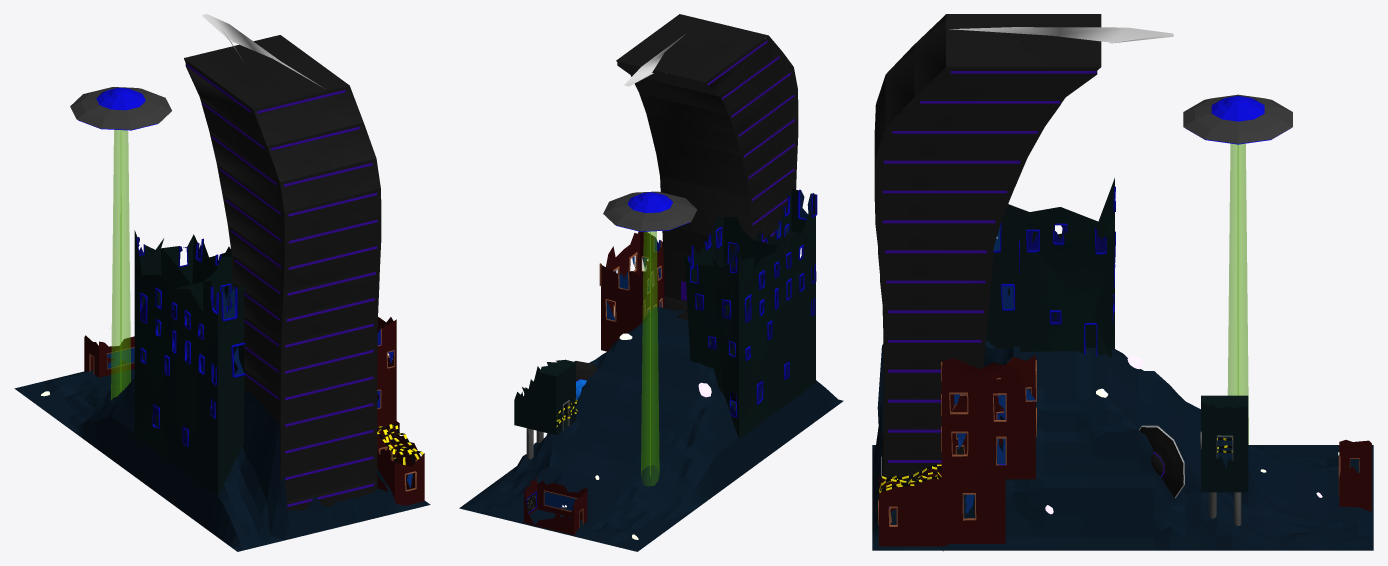
File: terreno_final3.glb
3 views of the same model, side by side, from view 1: azimuth 30°, elevation 25°; view 2: azimuth 150°, elevation 25°; view 3: azimuth 270°, elevation 25° (orthographic). The views are drawn at different scales.
Visible parts, largest first — view 1: terrain2, building2, Plane, building3, building1, barrier; view 2: terrain2, building2, Plane, building1, building3; view 3: terrain2, building3, building2, Plane, building1, Plane.002, barrier.
Part boxes in pixels (x1,y1,x2,y2): terrain2: (14, 14, 430, 551); building2: (134, 230, 245, 495); Plane: (70, 87, 171, 399); building3: (377, 317, 424, 505); building1: (84, 335, 134, 377); barrier: (377, 423, 423, 465); terrain2: (459, 14, 843, 551); building2: (684, 188, 817, 438); Plane: (603, 191, 697, 485); building1: (514, 359, 587, 535); building3: (599, 231, 664, 351); terrain2: (872, 14, 1373, 550); building3: (878, 355, 1036, 551); building2: (986, 178, 1115, 357); Plane: (1183, 94, 1292, 444); building1: (1200, 395, 1371, 525); Plane.002: (1139, 425, 1184, 498); barrier: (879, 437, 1232, 492).
Size of what is drawn, in the model's own units: 47.73 by 99.77 by 95.58.
9 materials, 8 textured.
